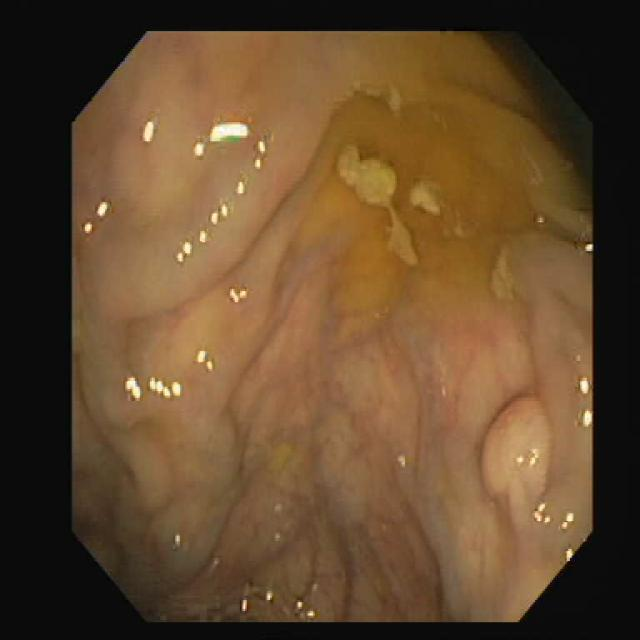tumor: (483, 393, 552, 527)
